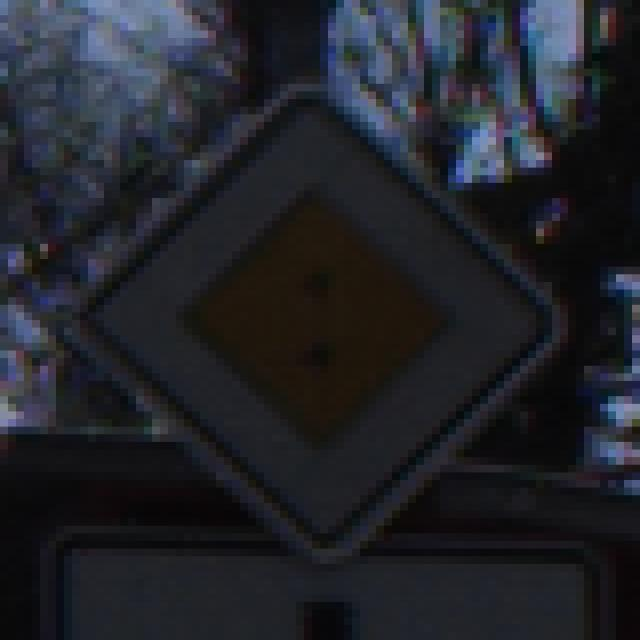Main Road: (57, 62, 585, 588)
